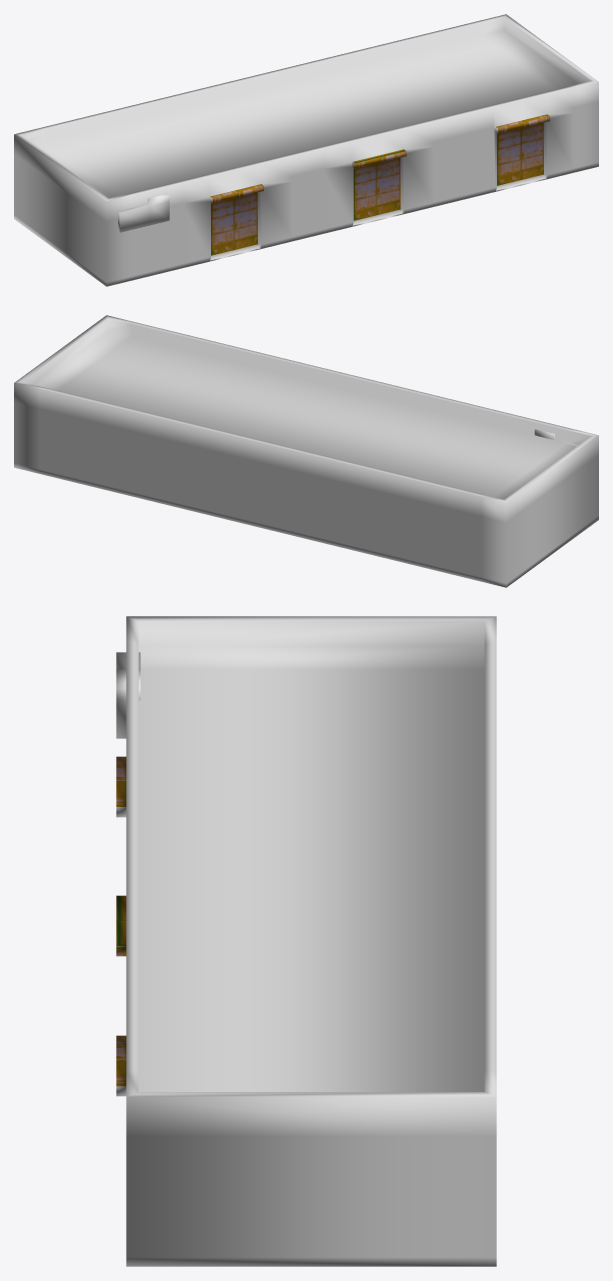
File: Buildings_ShutteredWarehouse_Brown.fbx
3 views of the same model, one above another, from view 1: azimuth 30°, elevation 25°; view 2: azimuth 150°, elevation 25°; view 3: azimuth 270°, elevation 25° (orthographic). The views are drawn at different scales.
Visible parts, largest first — view 1: Building.ShutteredWarehouse.Brown; view 2: Building.ShutteredWarehouse.Brown; view 3: Building.ShutteredWarehouse.Brown.
Part boxes in pixels (left/top/right/bottom): Building.ShutteredWarehouse.Brown: left=14, top=14, right=598, bottom=286; Building.ShutteredWarehouse.Brown: left=14, top=315, right=598, bottom=587; Building.ShutteredWarehouse.Brown: left=116, top=616, right=496, bottom=1266.
Bounding box in the file's own units: 2398 × 395 × 803.
